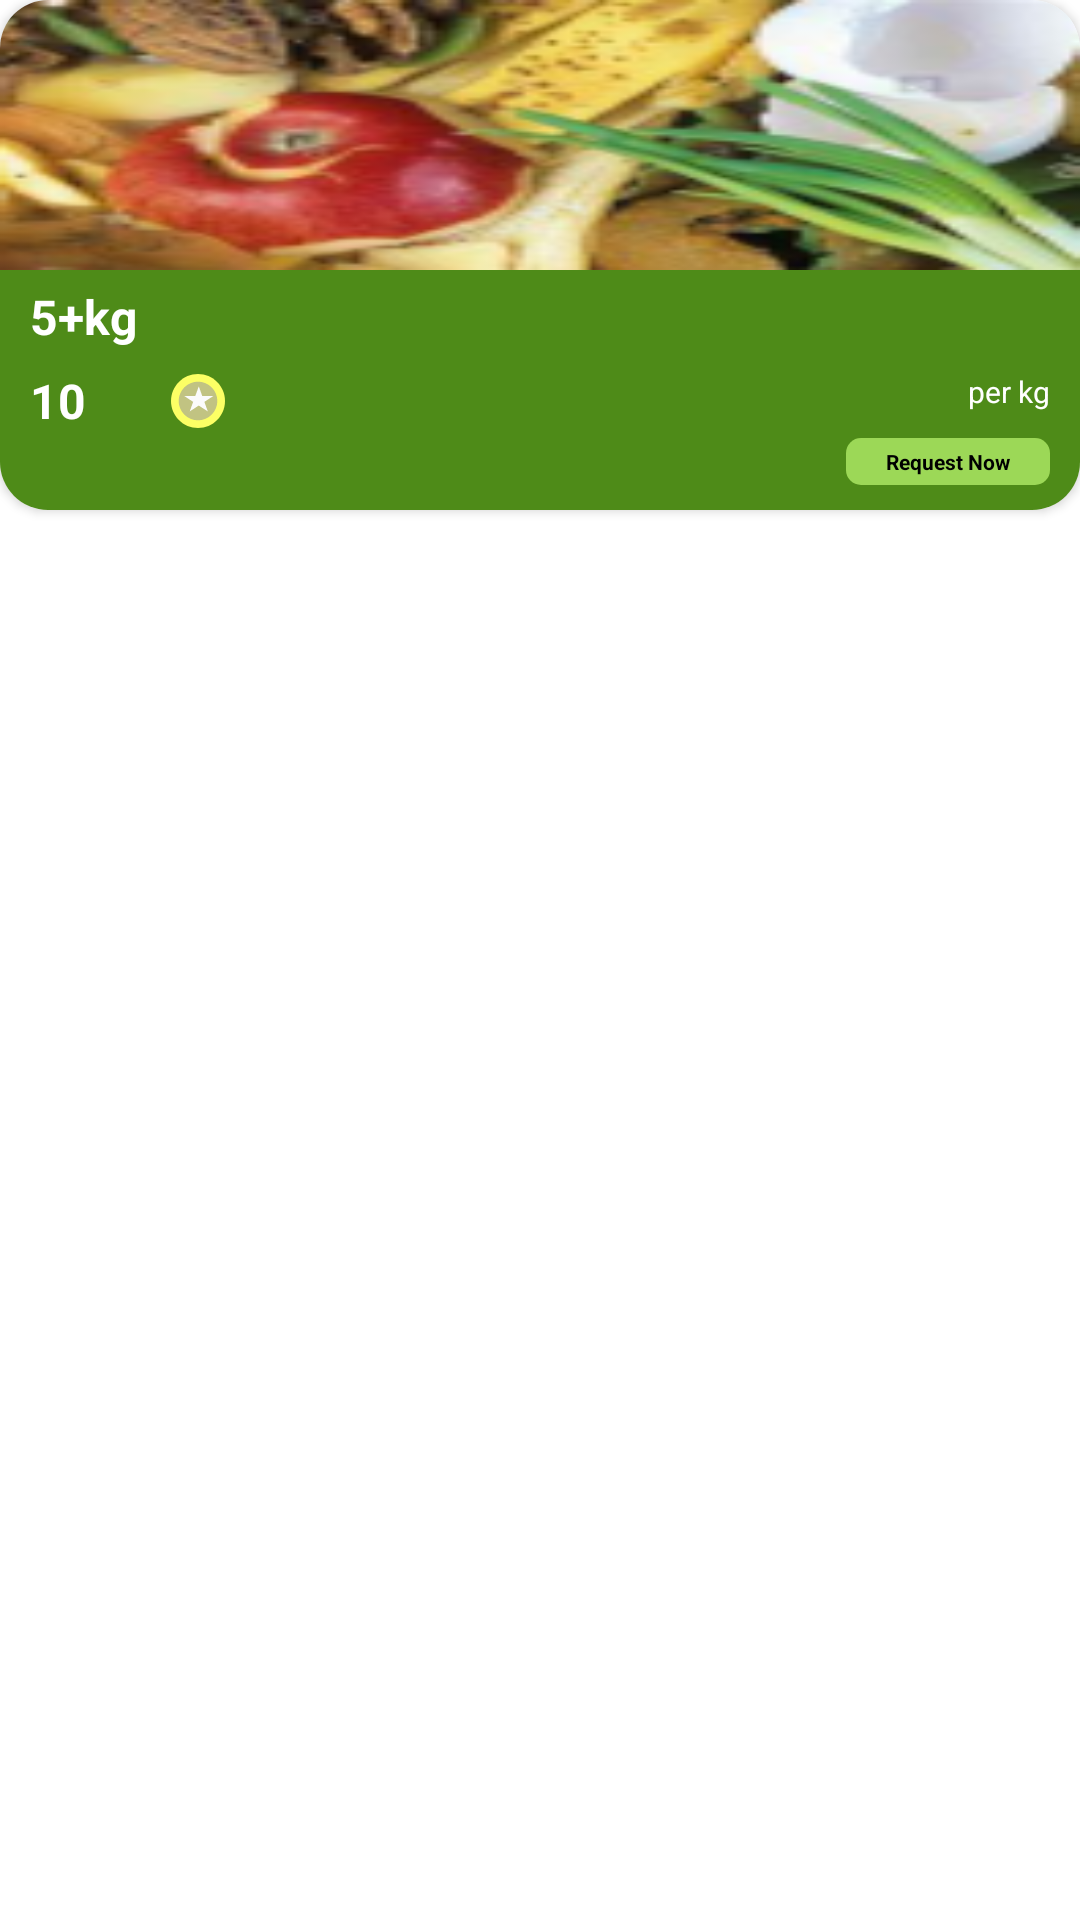

Icons on this 1080 x 1920 Android screen, each with the point to tap as [x,y]:
coin without frame: [198,401]
